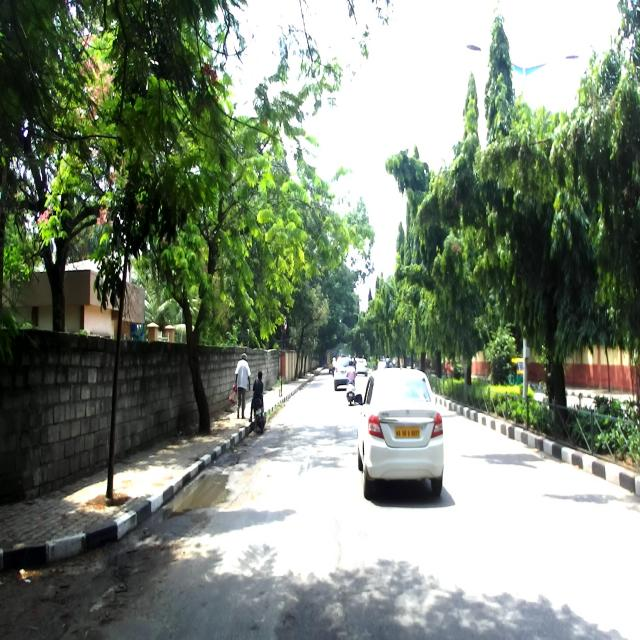car: (354, 366, 444, 499)
